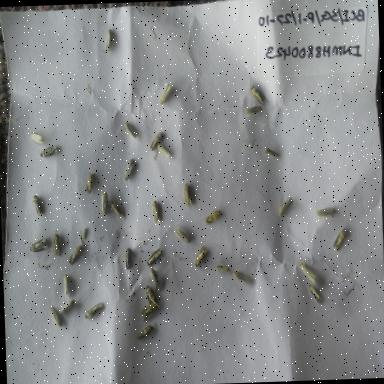pbw: (298, 258, 322, 286), (97, 25, 119, 53), (191, 242, 210, 270), (29, 234, 50, 258), (66, 242, 84, 270), (139, 300, 161, 322), (122, 118, 142, 142), (248, 82, 268, 106), (331, 226, 349, 252), (203, 206, 224, 228), (306, 281, 325, 305), (81, 170, 100, 194), (145, 130, 165, 152), (174, 225, 192, 249), (30, 192, 47, 216), (48, 301, 62, 330), (122, 156, 138, 181), (144, 246, 164, 266), (135, 322, 155, 342), (182, 176, 194, 209), (58, 270, 72, 298), (156, 140, 172, 164), (278, 194, 294, 218), (38, 143, 62, 159), (231, 268, 252, 286), (158, 81, 173, 106), (108, 199, 125, 221), (144, 280, 157, 308), (84, 300, 104, 318), (98, 187, 110, 216), (315, 204, 339, 218), (52, 230, 64, 258), (58, 297, 76, 315), (243, 103, 264, 118), (147, 267, 159, 292), (150, 199, 162, 223), (263, 143, 281, 159), (28, 130, 44, 148), (122, 244, 132, 270), (212, 260, 230, 274), (81, 226, 88, 240)
